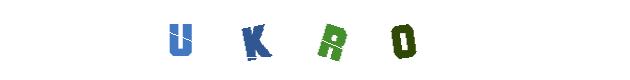K: (275, 0, 355, 80)
O: (363, 0, 443, 80)
R: (296, 0, 376, 80)
U: (179, 0, 259, 80)
